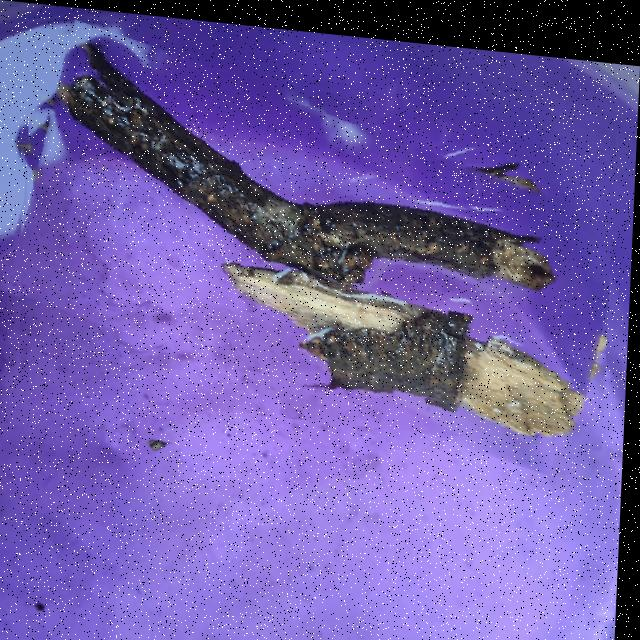wood: (10, 45, 617, 438), (24, 67, 555, 294), (256, 252, 570, 416)
